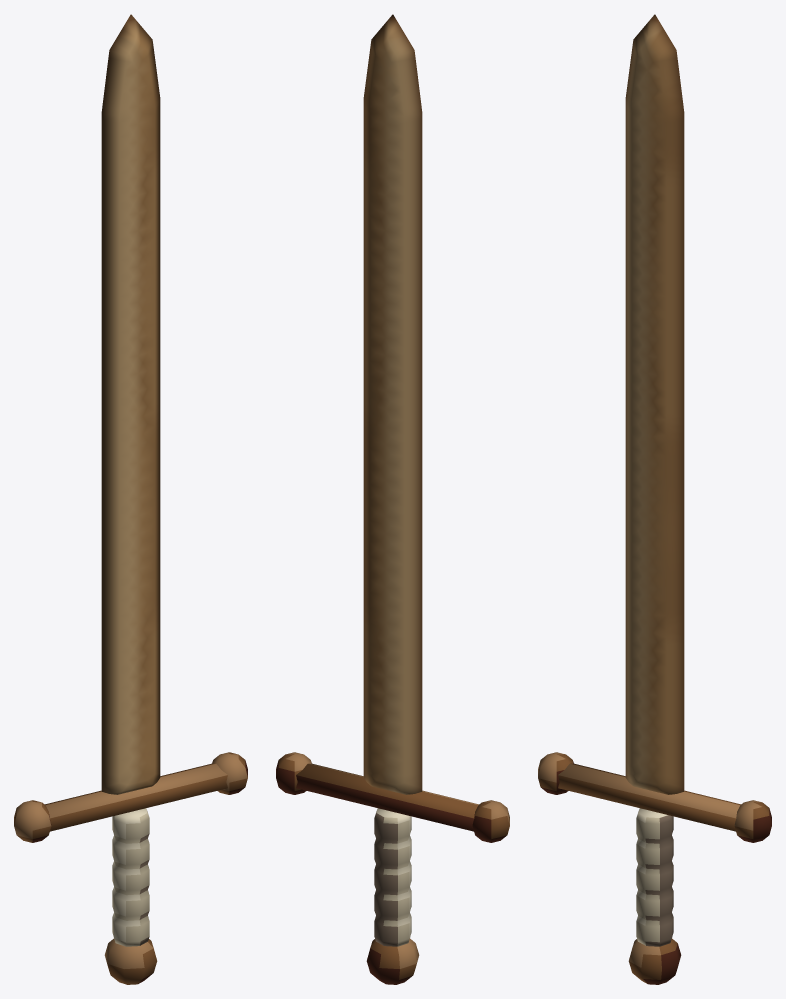
File: w_wooden_sword.glb
3 views of the same model, side by side, from view 1: azimuth 30°, elevation 25°; view 2: azimuth 150°, elevation 25°; view 3: azimuth 330°, elevation 25° (orthographic).
Parts seen in each view (by area): view 1: Weapon; view 2: Weapon; view 3: Weapon.
Part boxes in pixels (x1=…): Weapon: x1=14, y1=14, x2=247, y2=984; Weapon: x1=276, y1=14, x2=509, y2=984; Weapon: x1=538, y1=14, x2=771, y2=984.
Bounding box in the file's own units: 0.238 × 0.942 × 0.048.
